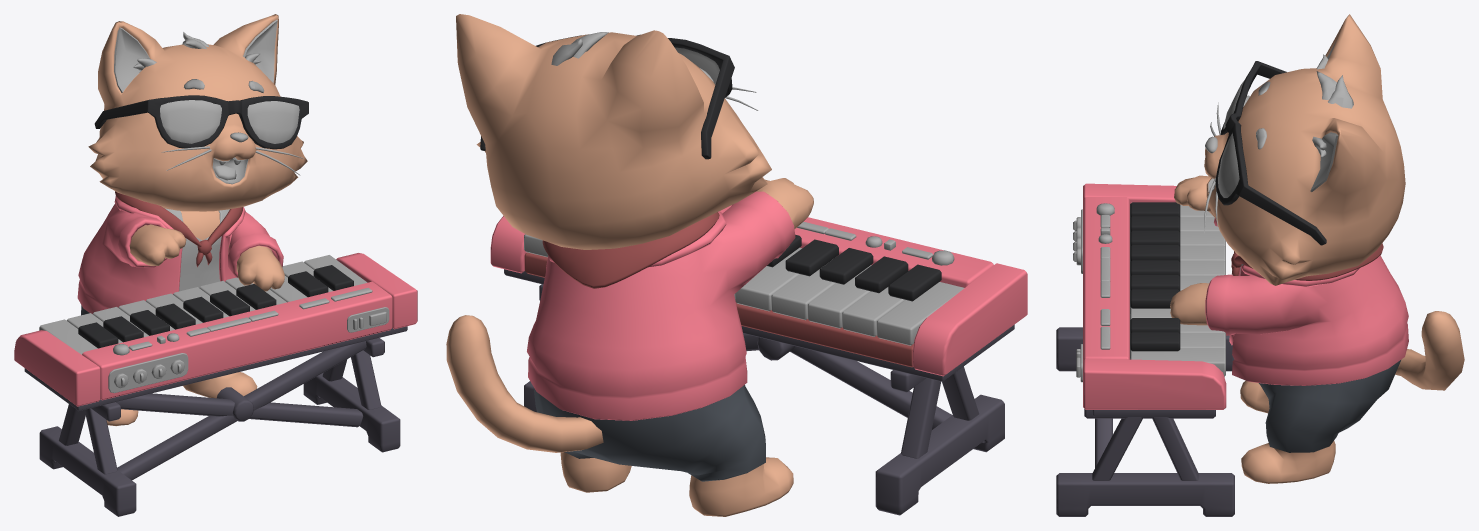
File: KeyboardCat.fbx
3 renders of one model, left to right at view 1: azimuth 30°, elevation 25°; view 2: azimuth 150°, elevation 25°; view 3: azimuth 270°, elevation 25°, orthographic. The views are drawn at different scales.
Visible parts, largest first — view 1: S_KeyboardCat, M_KeyboardCat, D1_KeyboardCat01, D1_KeyboardCat02, D_KeyboardCat_23, D_KeyboardCat, D_KeyboardCat1, D_KeyboardCat_31, D_Key11; view 2: S_KeyboardCat, M_KeyboardCat; view 3: S_KeyboardCat, M_KeyboardCat, D1_KeyboardCat02, D_KeyboardCat1.
Boxes of the visible parts, x1,y1,x2,y2 form: S_KeyboardCat: [24, 14, 407, 516]; M_KeyboardCat: [14, 224, 417, 406]; D1_KeyboardCat01: [160, 100, 221, 143]; D1_KeyboardCat02: [247, 101, 299, 143]; D_KeyboardCat_23: [108, 353, 188, 393]; D_KeyboardCat: [114, 27, 149, 92]; D_KeyboardCat1: [243, 19, 277, 82]; D_KeyboardCat_31: [347, 307, 389, 332]; D_Key11: [212, 157, 248, 184]; S_KeyboardCat: [446, 14, 1014, 516]; M_KeyboardCat: [490, 178, 1027, 376]; S_KeyboardCat: [1056, 14, 1464, 516]; M_KeyboardCat: [1083, 175, 1226, 409]; D1_KeyboardCat02: [1218, 133, 1239, 197]; D_KeyboardCat1: [1310, 132, 1338, 191].
Bounding box in the file's own units: 553 × 572 × 506.
